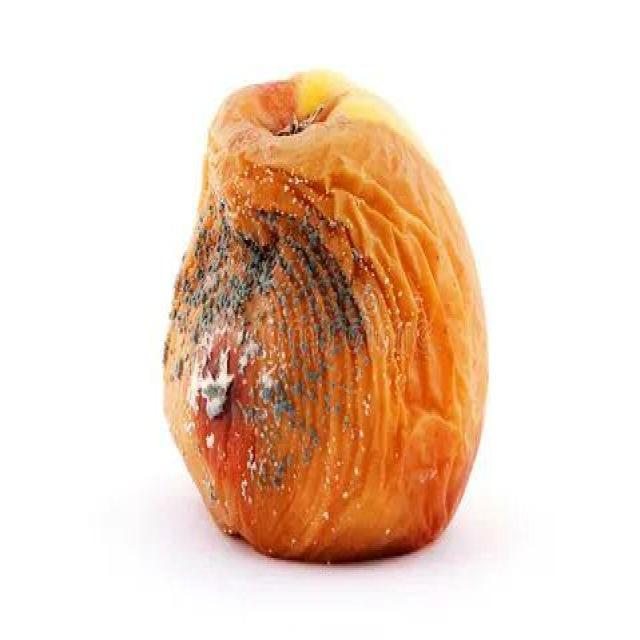Rotten Apple: (163, 68, 486, 562)
